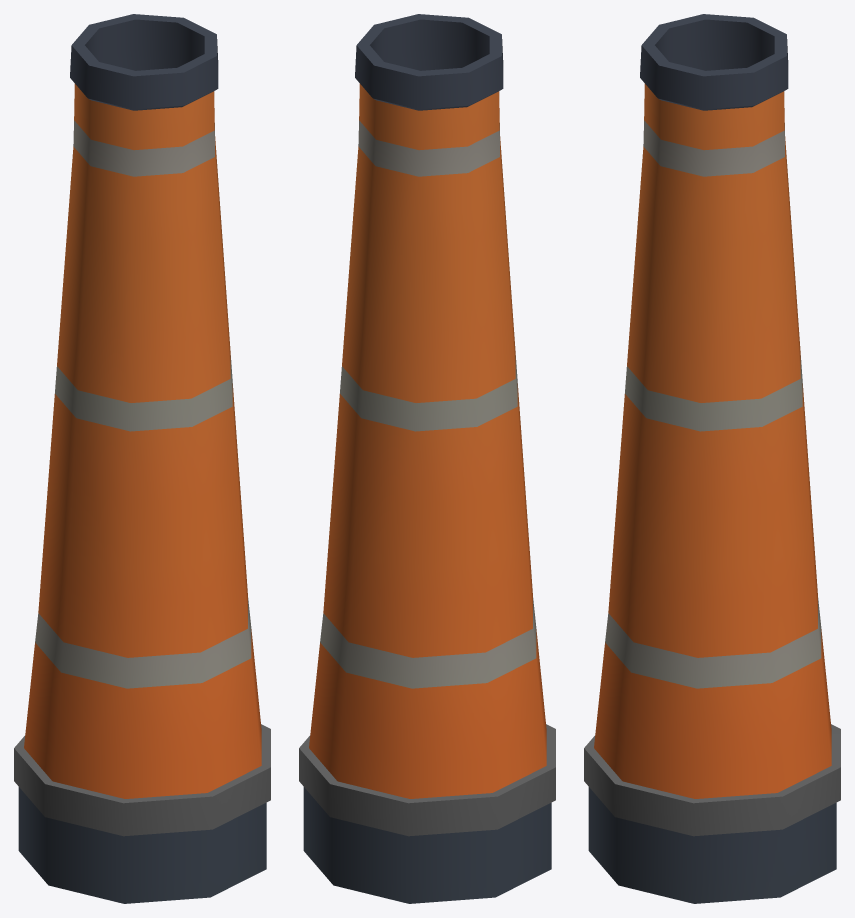
Rendered from ChimneyPowerPlant_2_B.fbx.
The picture shows the model from 3 angles, left to right: view 1: azimuth 30°, elevation 25°; view 2: azimuth 150°, elevation 25°; view 3: azimuth 270°, elevation 25°; orthographic projection.
Parts seen in each view (by area): view 1: ChimneyPowerPlant_2_B; view 2: ChimneyPowerPlant_2_B; view 3: ChimneyPowerPlant_2_B.
Boxes of the visible parts, box(x1,y1,x2,y2) form: ChimneyPowerPlant_2_B: box(14, 14, 270, 903); ChimneyPowerPlant_2_B: box(299, 14, 555, 903); ChimneyPowerPlant_2_B: box(584, 14, 840, 903).
Bounding box in the file's own units: 562 × 1916 × 554.
